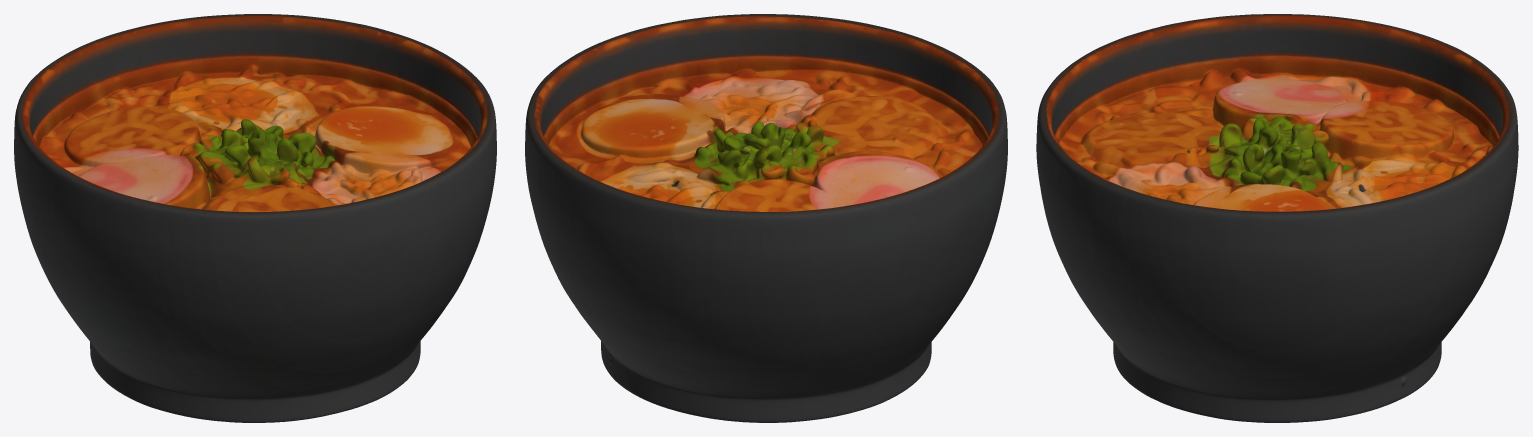
Rendered from ramen.glb.
3 renders of one model, left to right at view 1: azimuth 30°, elevation 25°; view 2: azimuth 150°, elevation 25°; view 3: azimuth 270°, elevation 25°, orthographic.
Parts seen in each view (by area): view 1: tripo_node_045d4a42-77dd-4b20-a745-9ede25cebd3a; view 2: tripo_node_045d4a42-77dd-4b20-a745-9ede25cebd3a; view 3: tripo_node_045d4a42-77dd-4b20-a745-9ede25cebd3a.
Boxes of the visible parts, <box> form: tripo_node_045d4a42-77dd-4b20-a745-9ede25cebd3a: <box>14,14,496,422</box>; tripo_node_045d4a42-77dd-4b20-a745-9ede25cebd3a: <box>525,14,1007,422</box>; tripo_node_045d4a42-77dd-4b20-a745-9ede25cebd3a: <box>1036,14,1518,422</box>.
Size of the model in its own units: 0.9999 by 0.5506 by 1.
Materials: 1 (1 with a texture image).
